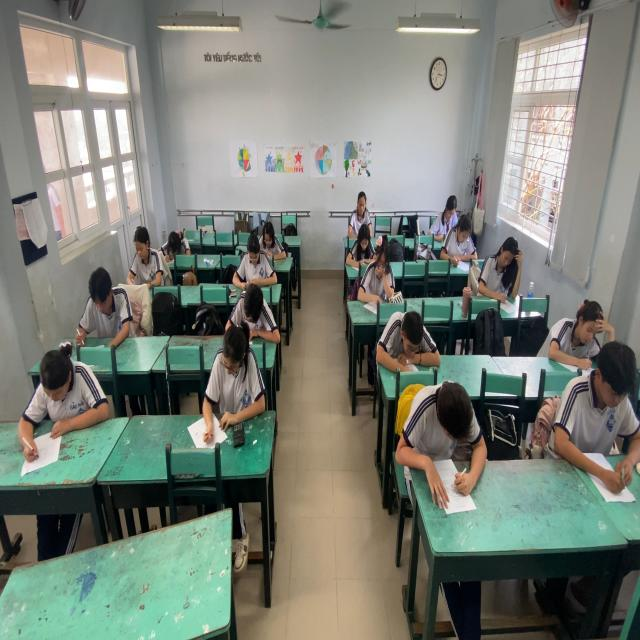not_cheating: (560, 334, 633, 502), (391, 371, 484, 494), (21, 340, 115, 444), (206, 323, 264, 442), (372, 294, 444, 372), (215, 270, 282, 342), (72, 272, 133, 344), (550, 290, 600, 366), (229, 226, 283, 296), (473, 232, 523, 306), (121, 222, 168, 296), (362, 236, 402, 308), (438, 210, 479, 266), (341, 212, 376, 265), (156, 207, 186, 266), (256, 213, 290, 259), (347, 183, 374, 231), (436, 192, 459, 236)
